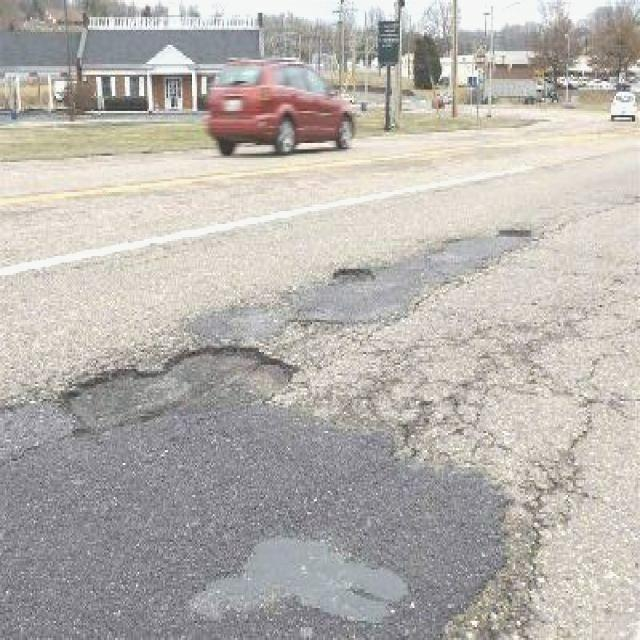Pothole: (54, 343, 301, 439), (333, 262, 378, 286), (498, 222, 536, 239)
